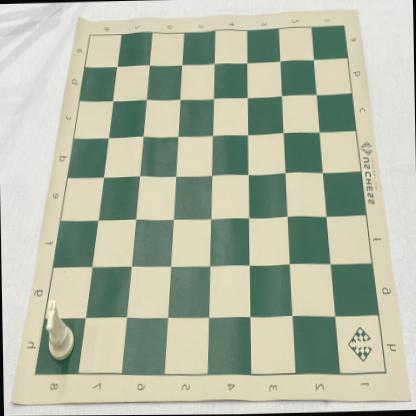white-knight: (44, 299, 74, 361)
